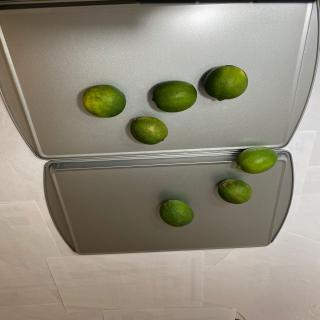Apple: (218, 178, 252, 204)
Lemon: (204, 65, 248, 101), (82, 84, 126, 118), (152, 80, 197, 113), (236, 146, 278, 174), (130, 116, 168, 145), (159, 200, 194, 228)
